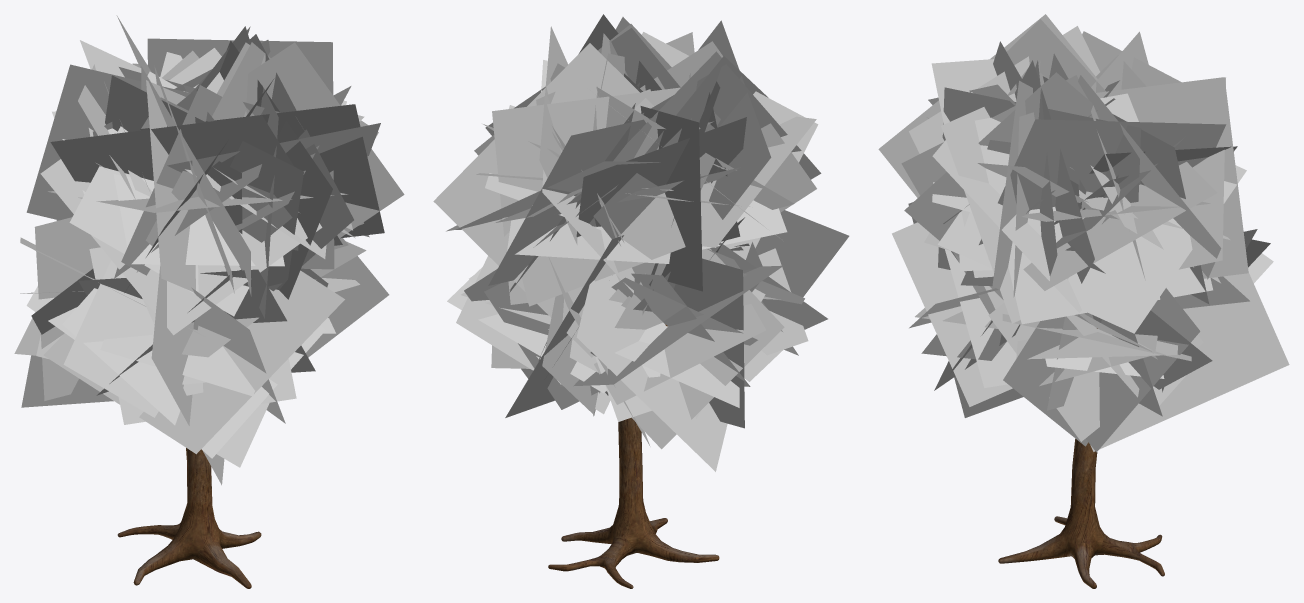
The model's file is Tree2.fbx.
3 renders of one model, left to right at view 1: azimuth 30°, elevation 25°; view 2: azimuth 150°, elevation 25°; view 3: azimuth 270°, elevation 25°, orthographic. The views are drawn at different scales.
Visible parts, largest first — view 1: Wood; view 2: Wood; view 3: Wood.
Boxes of the visible parts, left/top/right/bottom form: Wood: left=14, top=15, right=404, bottom=588; Wood: left=433, top=14, right=849, bottom=588; Wood: left=878, top=14, right=1289, bottom=588.
Bounding box in the file's own units: 462 × 690 × 501.
